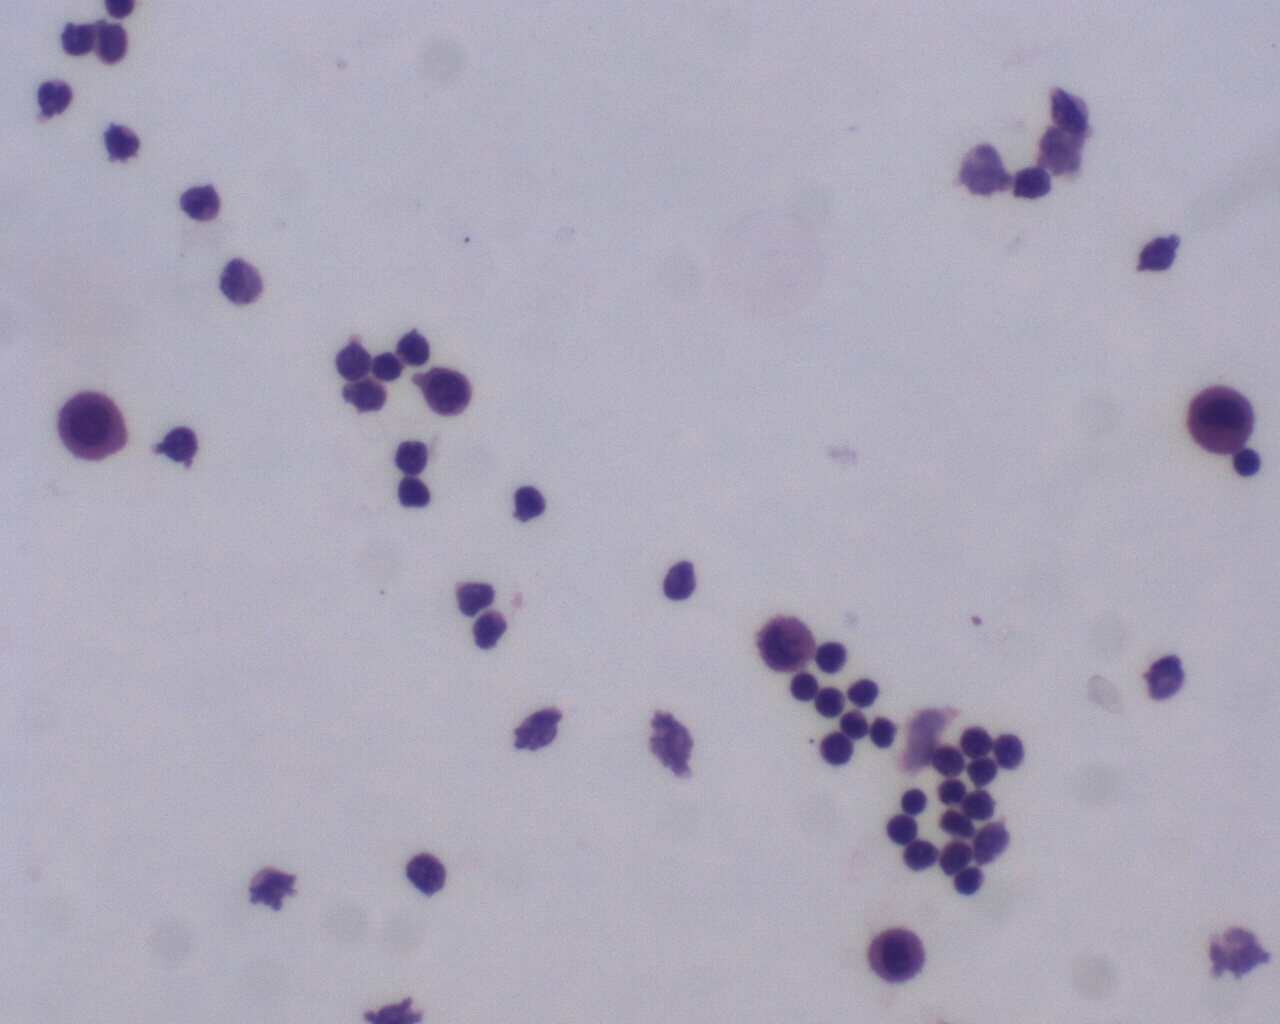ab: (1178, 376, 1264, 459), (52, 385, 133, 469), (755, 607, 817, 682), (866, 920, 932, 990)
lymph: (958, 716, 998, 762), (814, 726, 856, 769), (844, 670, 888, 708), (898, 782, 931, 818), (953, 864, 986, 899)
